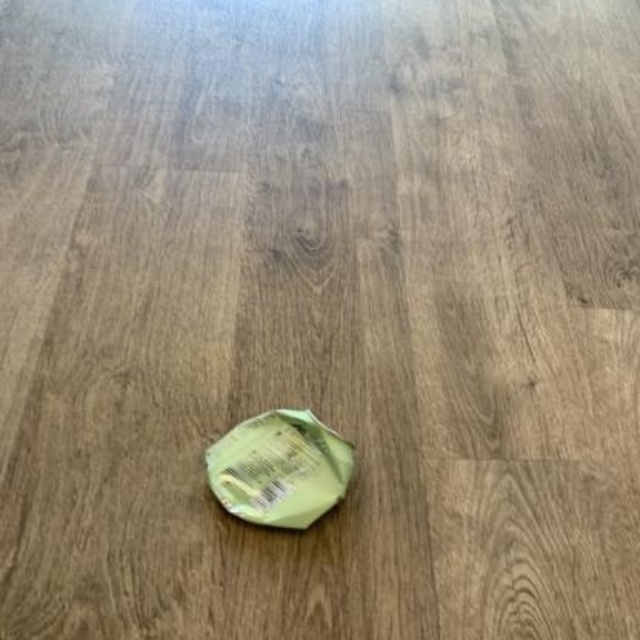trash: (206, 409, 352, 528)
